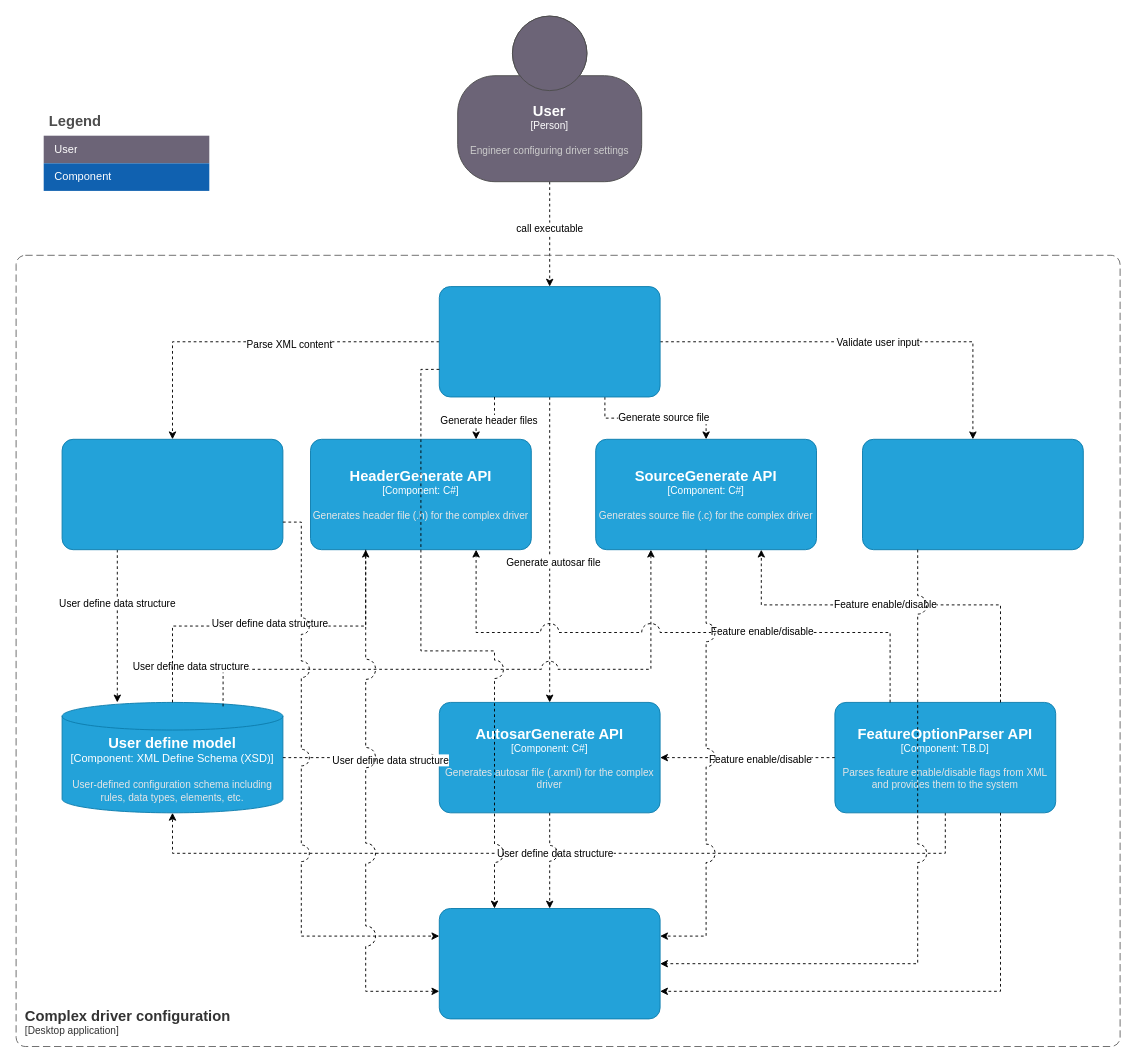
The diagram is 1136 pixels wide and 1063 high, and some of its shapes have lost their labels. The shapes that lost their labels are listed below. From the top down, each one's centre as x and y in pixels, then its label:
At (549,341): "AppStart API [Component: C#] Starts the desktop application".
At (172,494): "XMLParser API [Component: T.B.D] Parses XML file".
At (972,494): "ArgumentParser API [Component: T.B.D] Parses input arguments".
At (549,963): "Logging API [Component: T.B.D] Logs system events and errors".
